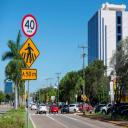speed_limit_40: (22, 14, 38, 38)
